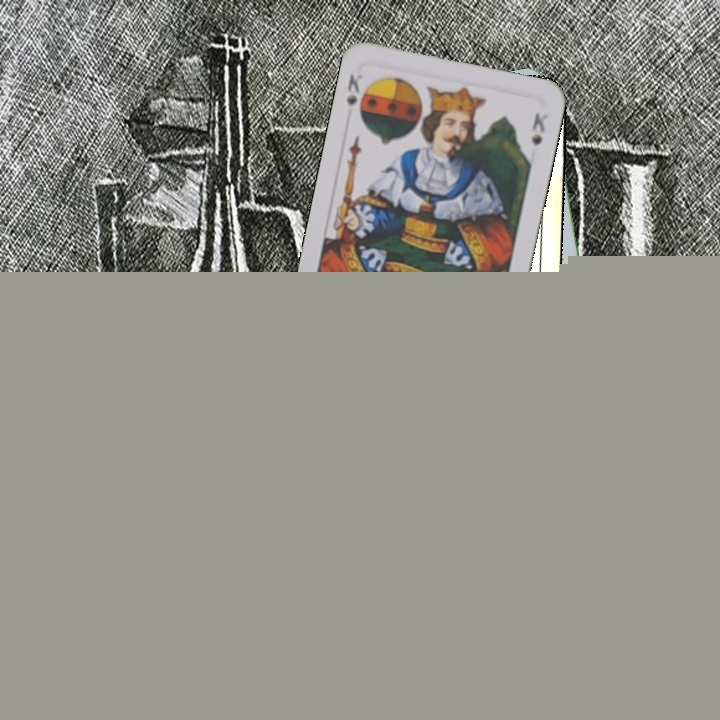E10: (573, 378, 601, 437)
H10: (520, 389, 546, 448)
SK: (462, 394, 488, 444), (342, 70, 365, 110)
